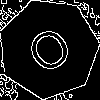O: (23, 23, 81, 84)
